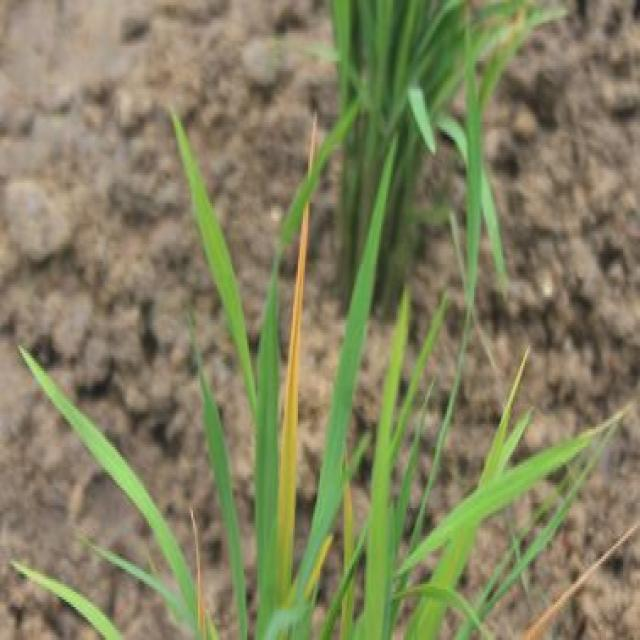Tungro: (272, 111, 315, 640)
